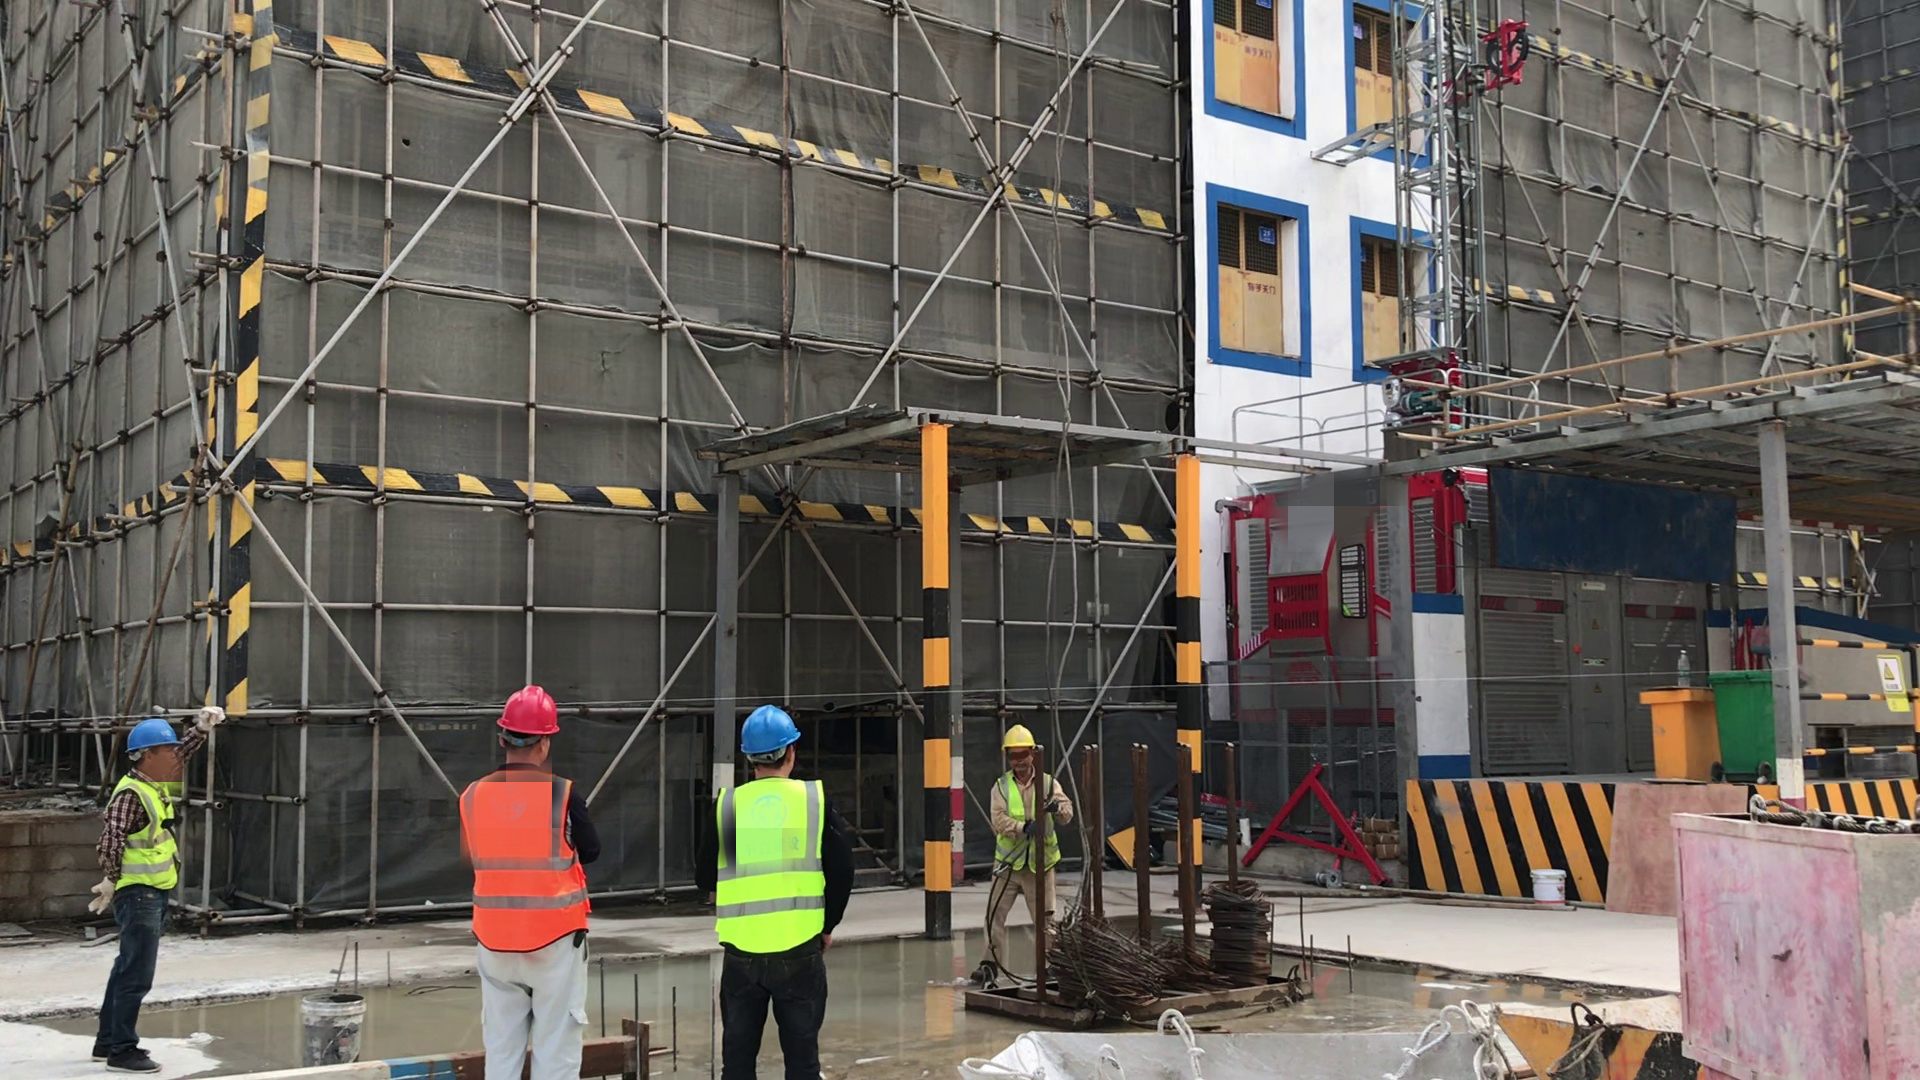brick: (1, 795, 109, 944)
helmet: (491, 681, 561, 734), (737, 700, 805, 752), (118, 712, 182, 751), (1002, 720, 1034, 749)
person: (698, 705, 858, 1080), (453, 682, 596, 1080), (102, 714, 183, 1080), (985, 718, 1073, 996)
vest: (455, 768, 598, 958), (714, 774, 832, 967), (101, 777, 182, 893)
